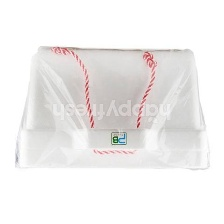foam_box: (11, 41, 215, 176)
